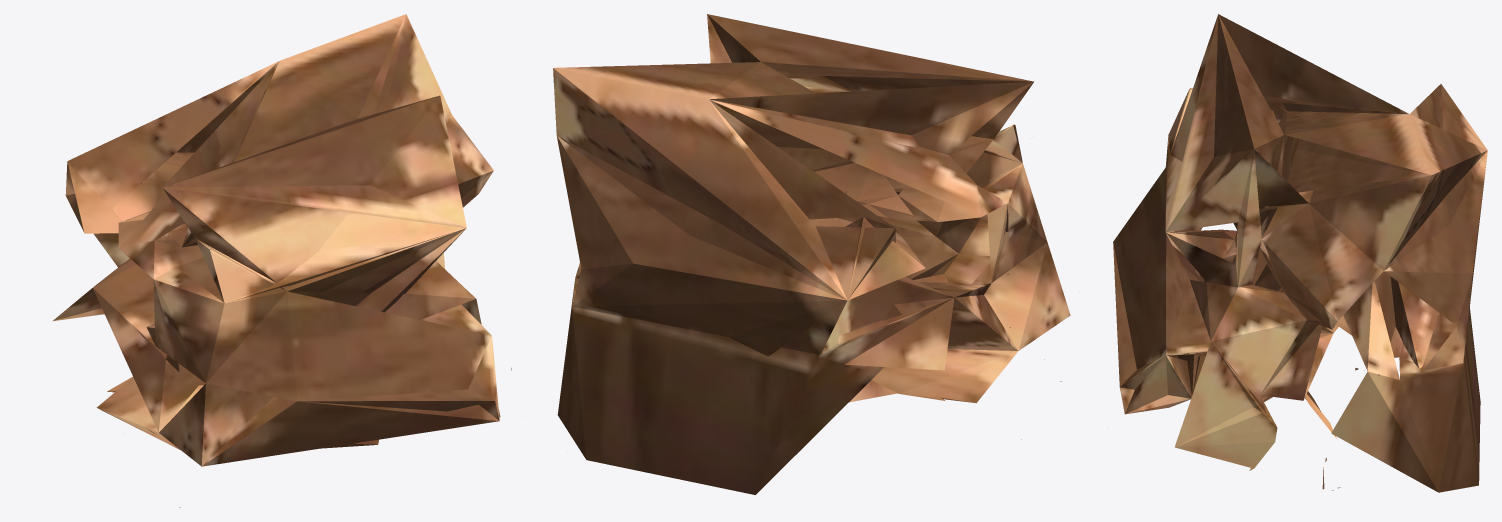
File: woodpile.glb
The picture shows the model from 3 angles, left to right: view 1: azimuth 30°, elevation 25°; view 2: azimuth 150°, elevation 25°; view 3: azimuth 270°, elevation 25°; orthographic projection. The views are drawn at different scales.
Parts seen in each view (by area): view 1: woodpile; view 2: woodpile; view 3: woodpile.
Part boxes in pixels (box(x1,y1,x2,y2)): woodpile: box(52, 14, 511, 507); woodpile: box(553, 14, 1070, 494); woodpile: box(1113, 14, 1487, 492).
Bounding box in the file's own units: 1.92 × 1.52 × 1.55.
Materials: 1 (1 with a texture image).
